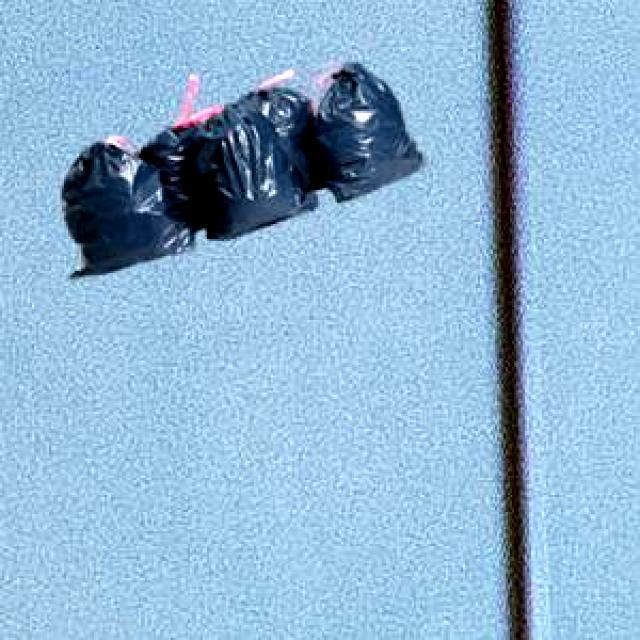Garbage_Bag: (59, 58, 424, 274)
